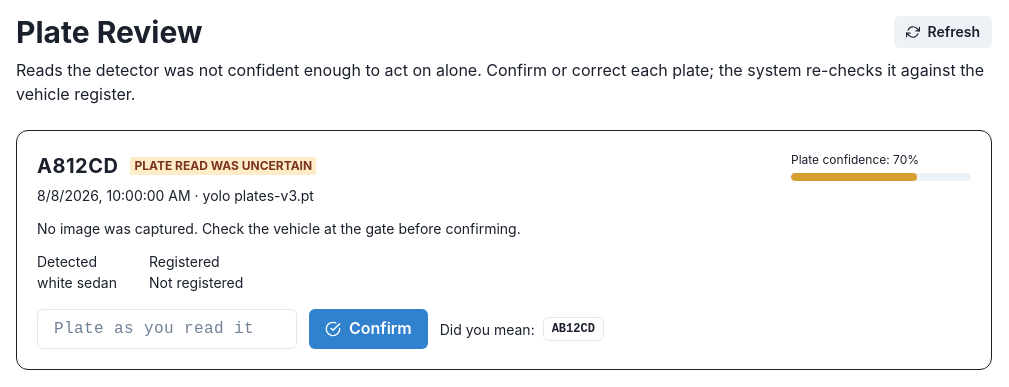
Test case: ReviewQueue › offers registered plates one character away, filling the box only on click
Expected: the field with placeholder "Plate as you read it" is empty, [37,309,297,349]
Click the button "AB12CD".
click(573, 329)  # box [543,317,604,341]
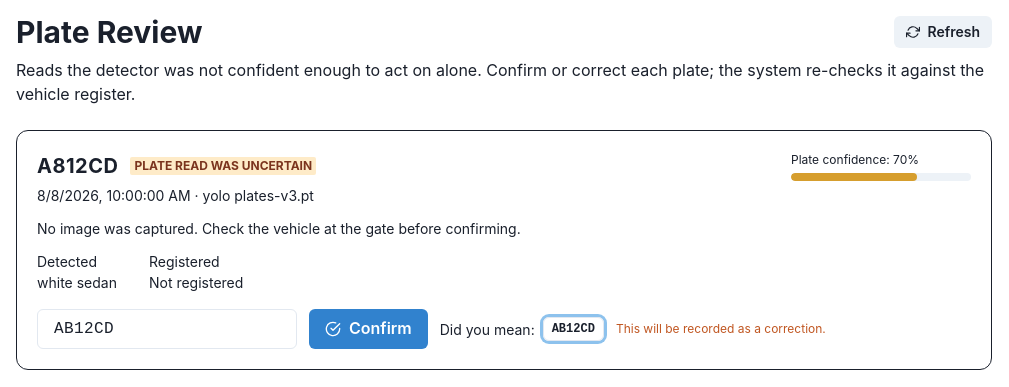
Expected: the field with placeholder "Plate as you read it" holds "AB12CD", [37,309,297,349]
